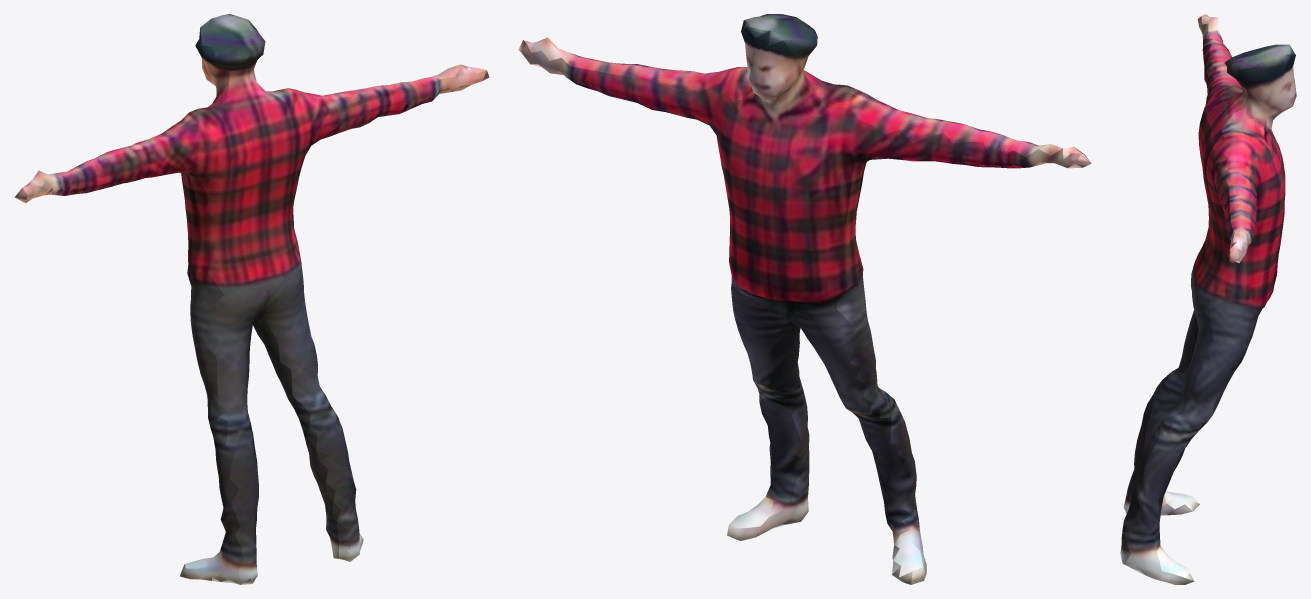
3 views of the same model, side by side, from view 1: azimuth 30°, elevation 25°; view 2: azimuth 150°, elevation 25°; view 3: azimuth 270°, elevation 25° (orthographic). The views are drawn at different scales.
Visible parts, largest first — view 1: world; view 2: world; view 3: world.
Boxes of the visible parts, <box> form: world: <box>14,14,489,584</box>; world: <box>518,14,1091,584</box>; world: <box>1120,14,1296,584</box>.
Size of the model in its own units: 0.9611 by 0.9471 by 0.302.
1 material, 1 textured.
